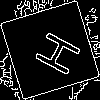H: (25, 25, 83, 78)
